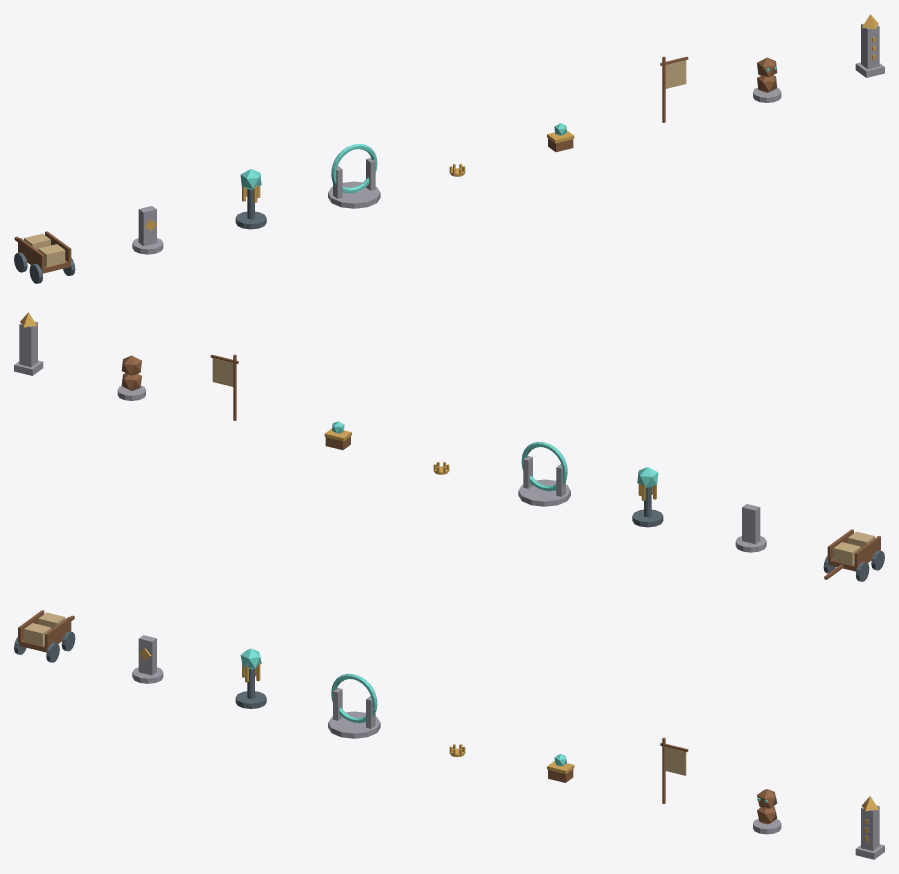
Rendered from expedition-props.glb.
3 views of the same model, one above another, from view 1: azimuth 30°, elevation 25°; view 2: azimuth 150°, elevation 25°; view 3: azimuth 330°, elevation 25° (orthographic).
Visible parts, largest first — view 1: rift plinth, obelisk shaft, rift arch, runestone, faction pennant; view 2: rift plinth, obelisk shaft, runestone, rift arch, faction pennant; view 3: rift plinth, obelisk shaft, runestone, rift arch, faction pennant.
Part boxes in pixels (x1,y1,x2,y2): rift plinth: (328,181,380,208); obelisk shaft: (861,23,879,69); rift arch: (331,143,377,193); runestone: (138,206,156,246); faction pennant: (665,60,686,88); rift plinth: (518,479,570,506); obelisk shaft: (19,321,37,367); runestone: (742,504,760,544); rift arch: (521,441,567,491); faction pennant: (212,358,233,386); rift plinth: (328,711,380,738); obelisk shaft: (861,805,879,850); runestone: (138,635,156,675); rift arch: (331,673,377,723); faction pennant: (665,747,686,775).
Size of the model in its own units: 41.32 by 3.06 by 3.5.
